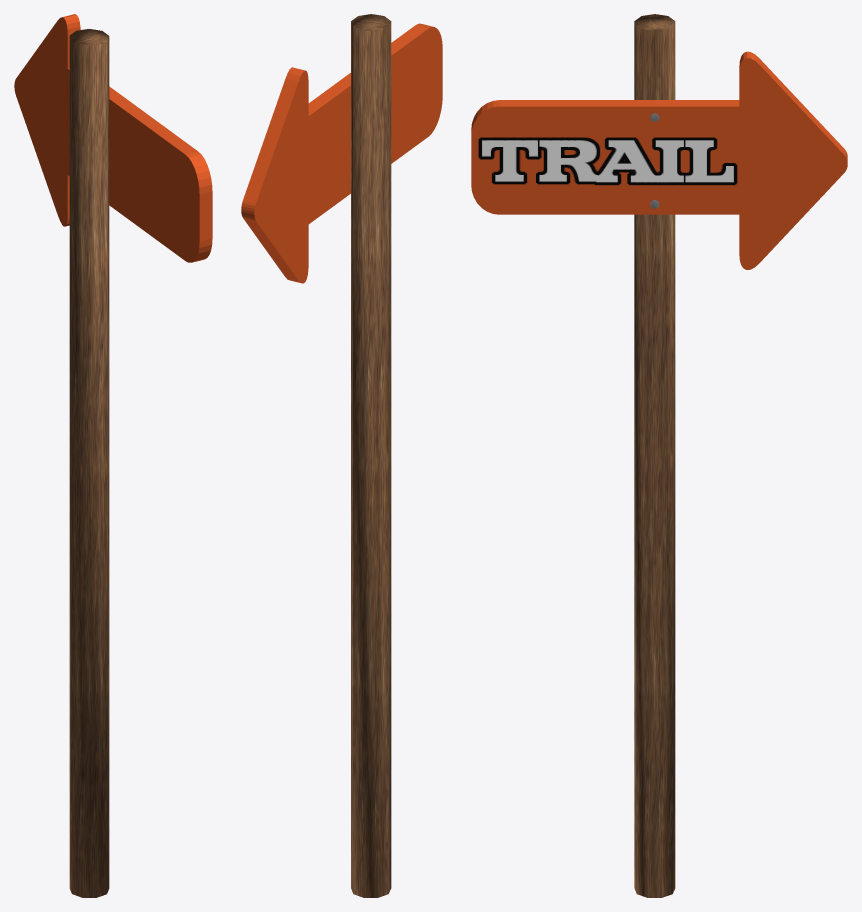
The model's file is signRight.fbx.
3 renders of one model, left to right at view 1: azimuth 30°, elevation 25°; view 2: azimuth 150°, elevation 25°; view 3: azimuth 270°, elevation 25°, orthographic.
Parts seen in each view (by area): view 1: signRight; view 2: signRight; view 3: signRight.
Boxes of the visible parts, x1,y1,x2,y2 form: signRight: (14,14,212,897); signRight: (241,14,442,897); signRight: (471,14,847,897).
Bounding box in the file's own units: 30.03 × 476 × 187.
